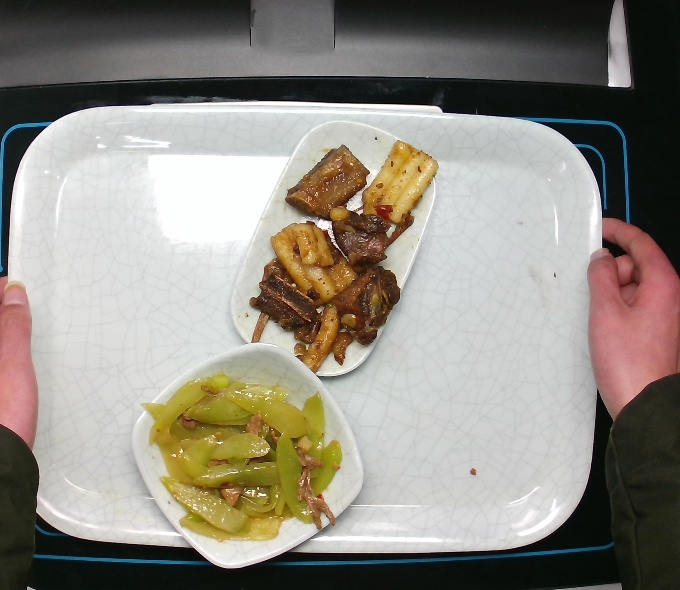wcq-NianGaoZaiPai: (248, 140, 436, 372)
wcq-WoSun: (135, 371, 347, 541)
